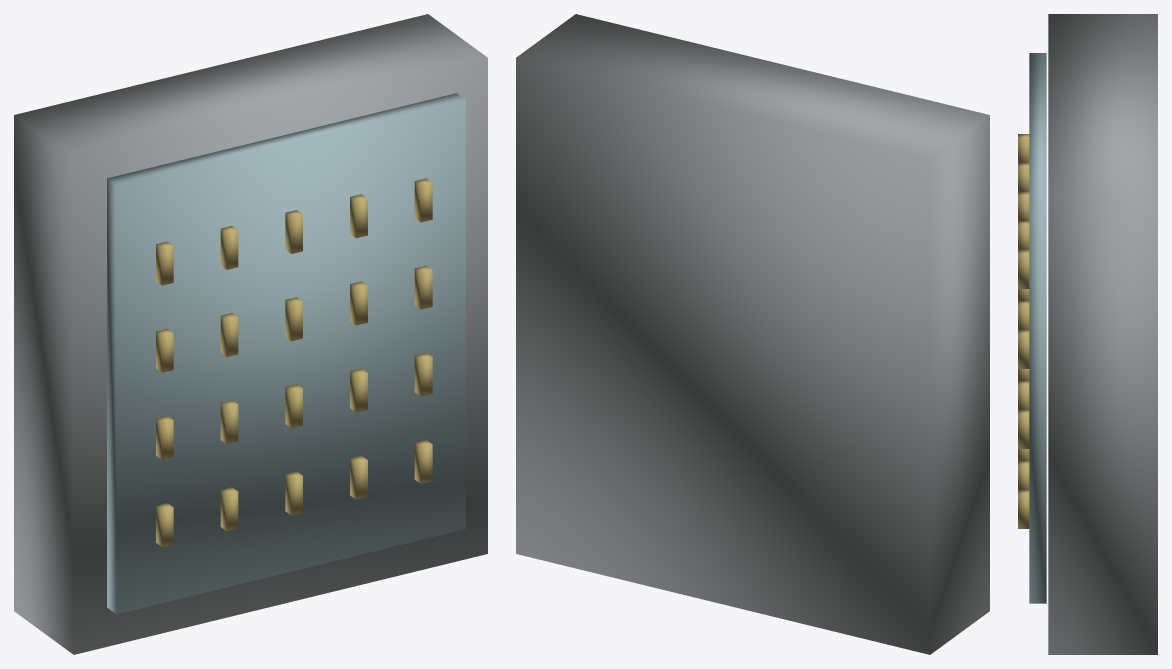
The model's file is wall_key_cabinet__reinforced.glb.
3 views of the same model, side by side, from view 1: azimuth 30°, elevation 25°; view 2: azimuth 150°, elevation 25°; view 3: azimuth 270°, elevation 25° (orthographic). The views are drawn at different scales.
Visible parts, largest first — view 1: world; view 2: world; view 3: world.
Part boxes in pixels (left/top/right/bottom): world: left=14, top=14, right=487, bottom=654; world: left=516, top=14, right=989, bottom=654; world: left=1018, top=14, right=1157, bottom=654.
Bounding box in the file's own units: 0.6592 × 0.7548 × 0.2101.
